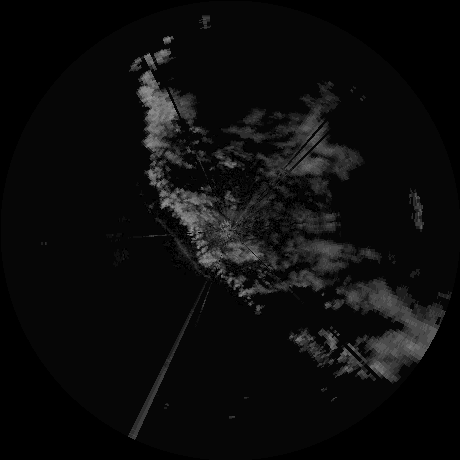frontgust: (156, 218, 208, 278)
